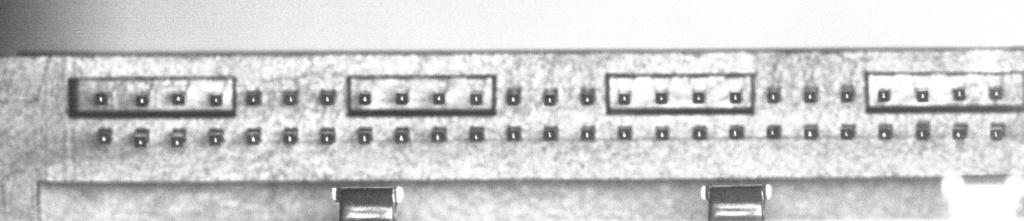pin_ok: (132, 127, 150, 147), (170, 128, 187, 147), (915, 120, 931, 140), (505, 87, 522, 105), (542, 87, 559, 105), (318, 88, 336, 105), (580, 86, 596, 105), (207, 128, 224, 145), (319, 127, 336, 144), (244, 128, 261, 145), (989, 123, 1005, 141), (952, 124, 969, 140), (877, 124, 894, 140), (282, 127, 298, 144), (356, 128, 373, 144), (840, 123, 856, 140), (282, 89, 299, 105), (469, 125, 485, 142), (245, 89, 262, 105), (506, 125, 522, 141), (394, 127, 410, 143), (430, 126, 446, 142), (728, 124, 744, 140), (840, 85, 855, 102), (580, 125, 596, 140), (692, 125, 708, 140), (803, 124, 818, 140), (766, 87, 781, 103), (616, 125, 632, 140), (803, 86, 818, 102), (766, 124, 782, 139), (988, 85, 1004, 100), (543, 125, 558, 140), (655, 125, 670, 140), (654, 89, 669, 104), (952, 87, 967, 101), (876, 88, 891, 102), (915, 87, 929, 102), (98, 128, 111, 144), (358, 91, 372, 105), (470, 91, 484, 105), (729, 90, 743, 104), (395, 90, 409, 104), (617, 91, 631, 105), (94, 92, 109, 105), (134, 93, 148, 106), (171, 92, 185, 105), (432, 91, 446, 104), (692, 90, 705, 103), (209, 93, 222, 105)
